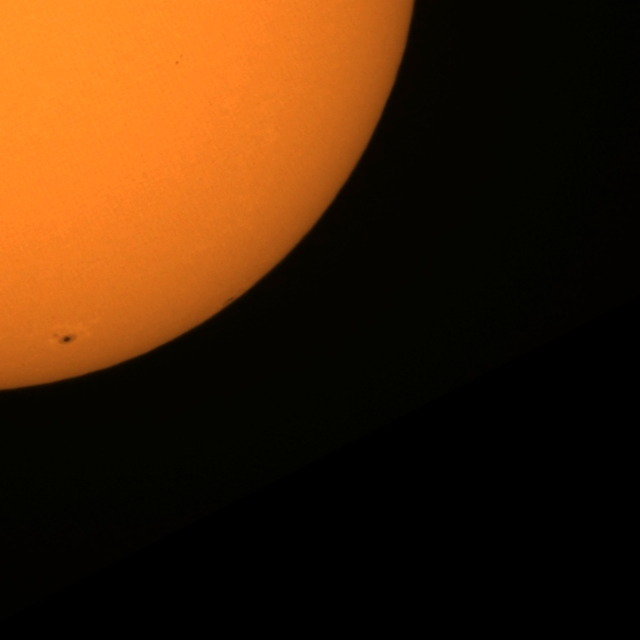sunspot: (50, 332, 78, 346), (174, 53, 184, 66)
